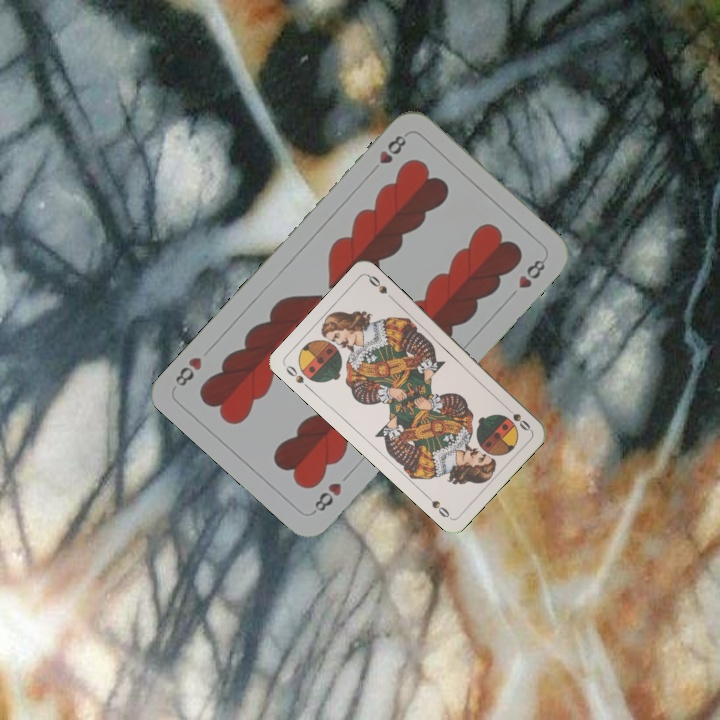H8: (366, 129, 409, 177), (308, 478, 345, 516)
SO: (501, 401, 533, 434), (282, 361, 314, 393)
